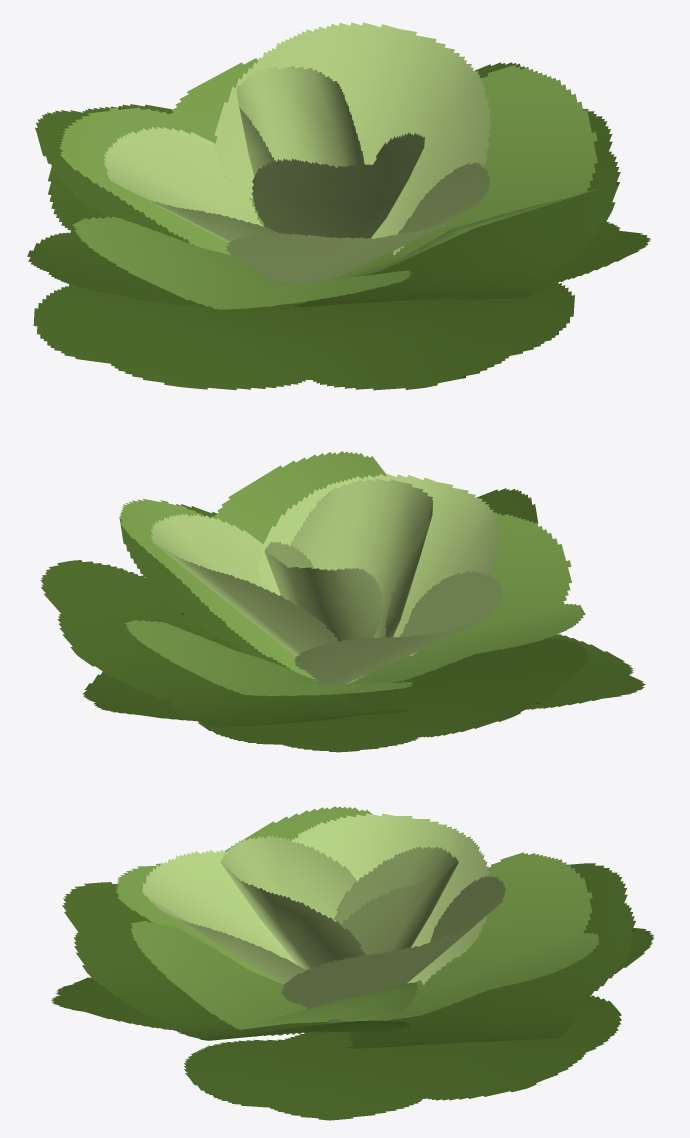
The model's file is Water_Lettuce_2.gltf.
The picture shows the model from 3 angles, top to bottom: view 1: azimuth 30°, elevation 25°; view 2: azimuth 150°, elevation 25°; view 3: azimuth 270°, elevation 25°; orthographic projection. The views are drawn at different scales.
Visible parts, largest first — view 1: Water_Lettuce_2; view 2: Water_Lettuce_2; view 3: Water_Lettuce_2.
Boxes of the visible parts, box(x1,y1,x2,y2) form: Water_Lettuce_2: box(27, 22, 650, 390); Water_Lettuce_2: box(40, 451, 645, 752); Water_Lettuce_2: box(51, 806, 654, 1120).
Size of the model in its own units: 35.51 by 10.75 by 36.46.
1 material, 1 textured.
